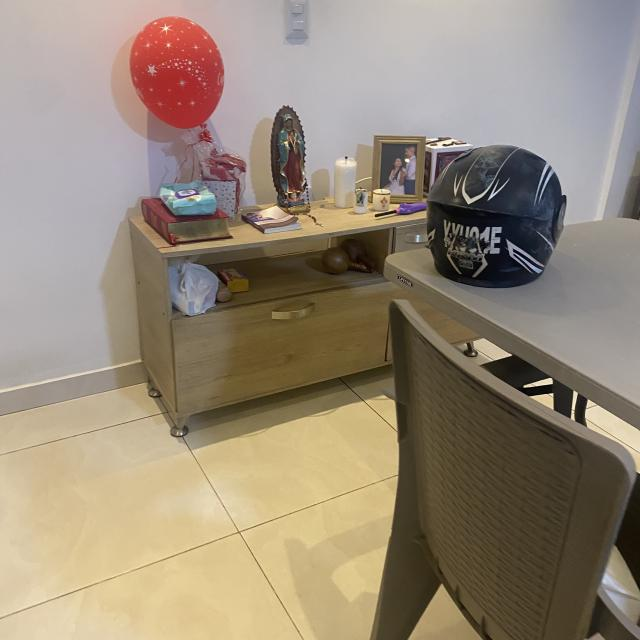obstacle: (357, 204, 640, 638), (118, 171, 506, 444)
